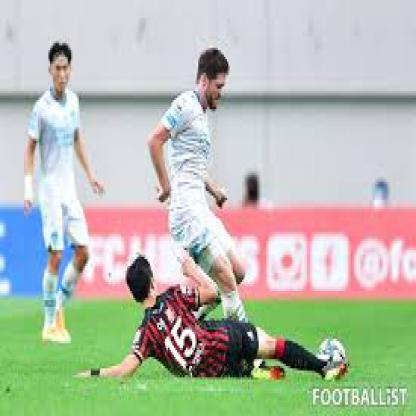Fall_Down: (72, 255, 353, 385)
